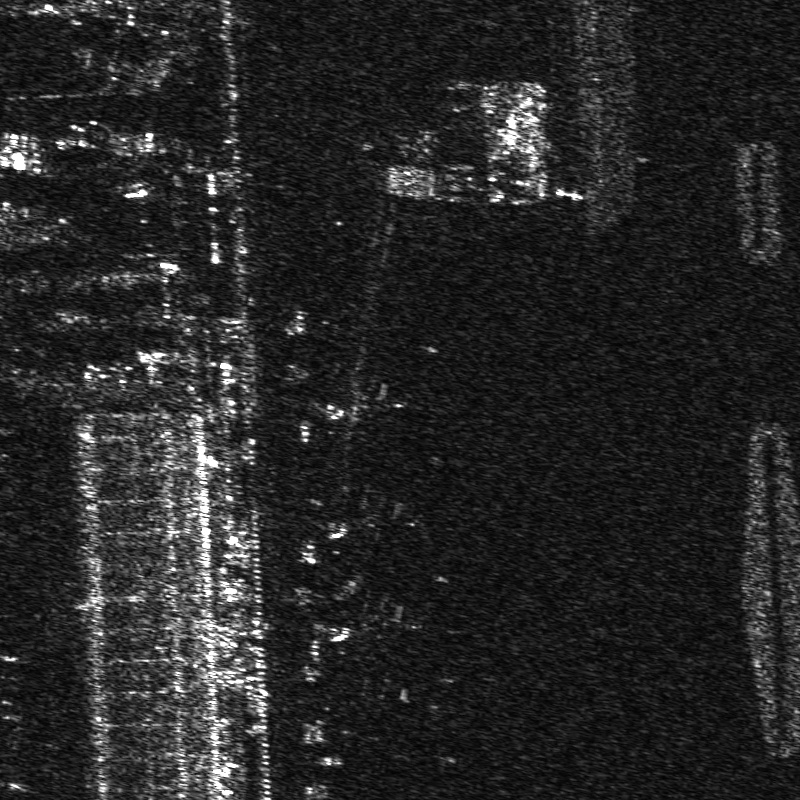A320/321: (307, 593, 429, 665), (322, 486, 423, 550)
Boeing737: (314, 376, 410, 449)
